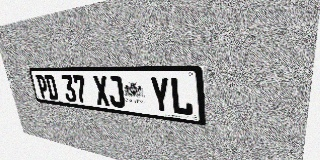3: (61, 75, 77, 102)
7: (72, 75, 89, 104)
D: (44, 75, 59, 100)
J: (106, 76, 126, 108)
L: (169, 77, 193, 116)
P: (35, 75, 50, 99)
X: (92, 76, 111, 106)
Y: (149, 77, 171, 114)
